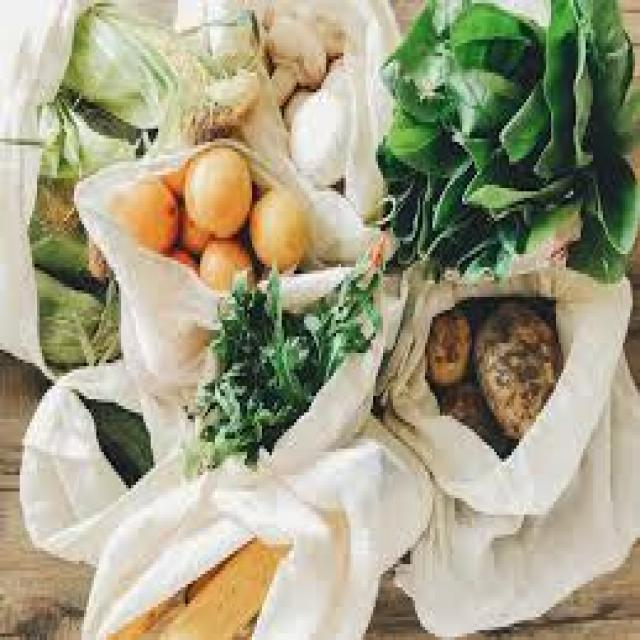Wet: (57, 110, 398, 473), (351, 2, 640, 298), (406, 271, 574, 458)
